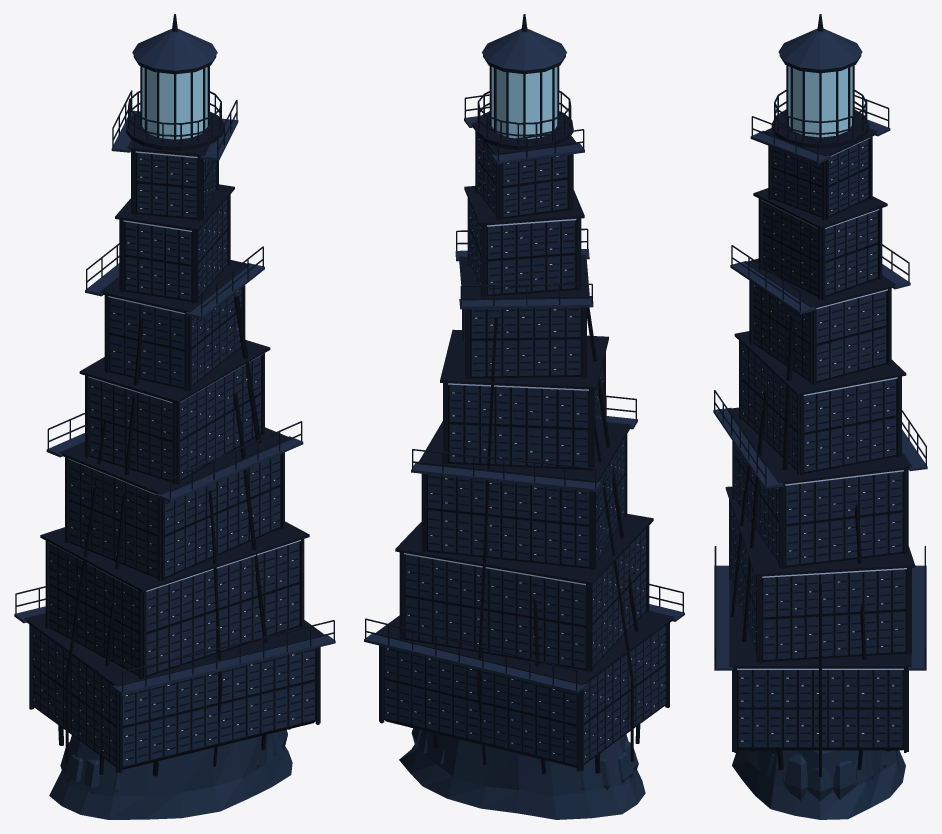
File: Lighthouse.fbx
3 views of the same model, side by side, from view 1: azimuth 30°, elevation 25°; view 2: azimuth 150°, elevation 25°; view 3: azimuth 270°, elevation 25° (orthographic).
Visible parts, largest first — view 1: KIT_Lighthouse_Structure; view 2: KIT_Lighthouse_Structure; view 3: KIT_Lighthouse_Structure.
Boxes of the visible parts, bbox=[...] form: KIT_Lighthouse_Structure: bbox=[14, 14, 335, 819]; KIT_Lighthouse_Structure: bbox=[364, 14, 684, 819]; KIT_Lighthouse_Structure: bbox=[713, 14, 927, 819].
Bounding box in the file's own units: 11.35 × 36.82 × 9.46.
